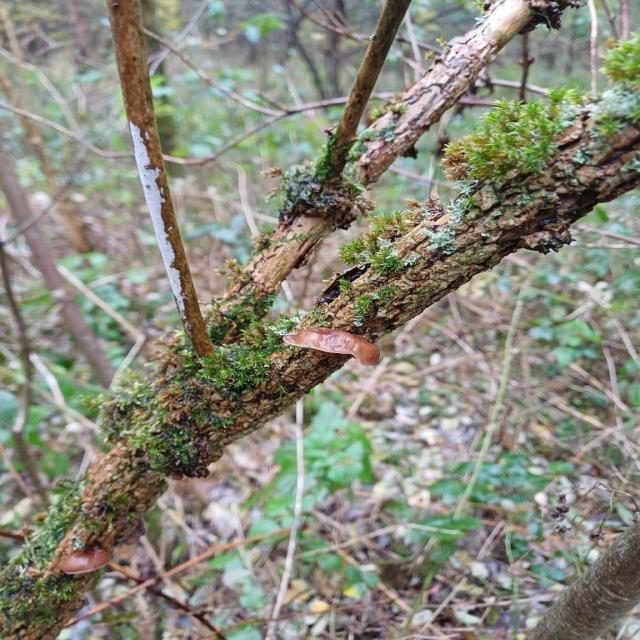Matang: (282, 324, 388, 374), (60, 540, 116, 581)
